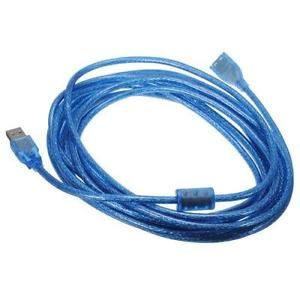Nonrec_Tangler: (5, 29, 296, 264)
